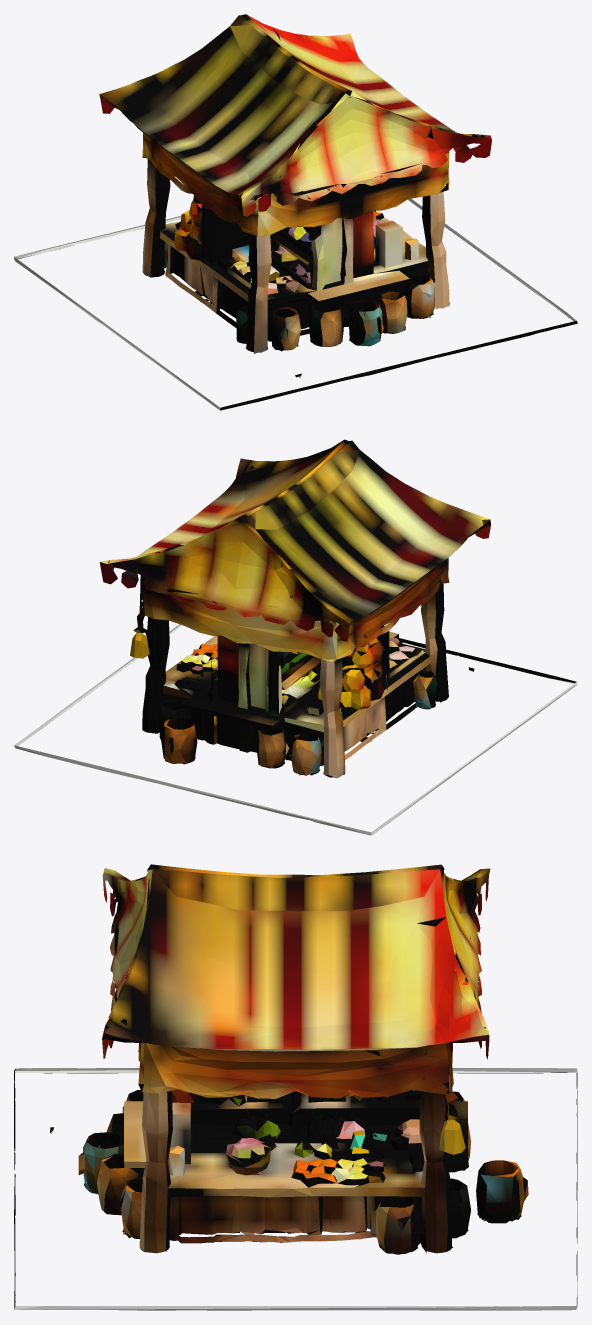
The model's file is stall.glb.
The picture shows the model from 3 angles, top to bottom: view 1: azimuth 30°, elevation 25°; view 2: azimuth 150°, elevation 25°; view 3: azimuth 270°, elevation 25°; orthographic projection. The views are drawn at different scales.
Visible parts, largest first — view 1: stall_LOW; view 2: stall_LOW; view 3: stall_LOW.
Part boxes in pixels (x1=…): stall_LOW: x1=14, y1=14, x2=577, y2=410; stall_LOW: x1=14, y1=439, x2=577, y2=835; stall_LOW: x1=14, y1=864, x2=577, y2=1310.
Bounding box in the file's own units: 4.72 × 3.01 × 4.72.
1 material, 1 textured.
